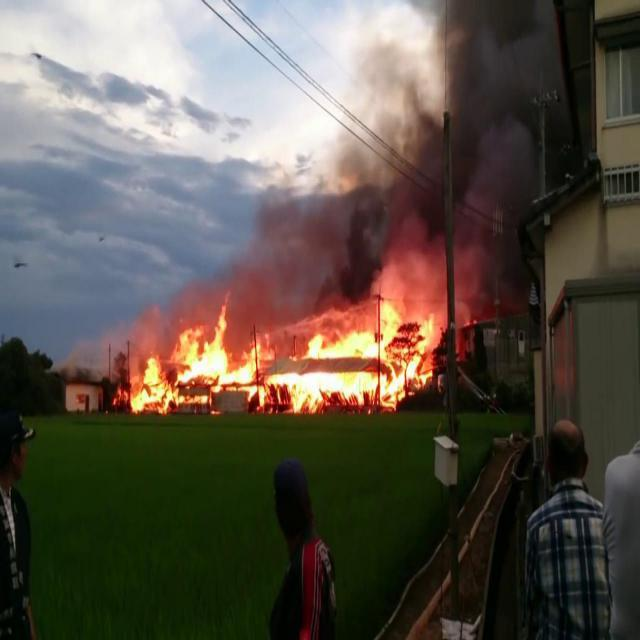Fire: (111, 303, 434, 413)
